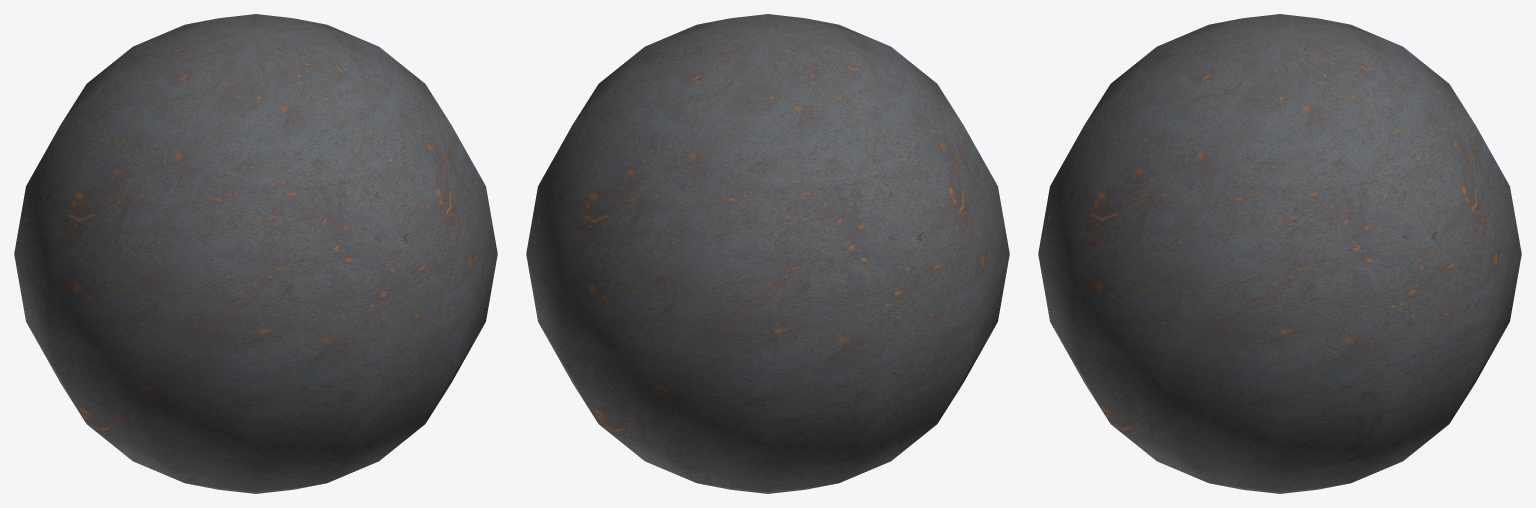
Rendered from obs_ball.fbx.
3 views of the same model, side by side, from view 1: azimuth 30°, elevation 25°; view 2: azimuth 150°, elevation 25°; view 3: azimuth 270°, elevation 25° (orthographic).
Parts seen in each view (by area): view 1: obst_Ball; view 2: obst_Ball; view 3: obst_Ball.
Boxes of the visible parts, x1=… form: obst_Ball: x1=14, y1=14, x2=497, y2=493; obst_Ball: x1=526, y1=14, x2=1009, y2=493; obst_Ball: x1=1038, y1=14, x2=1521, y2=493.
Size of the model in its own units: 89.65 by 89.65 by 89.65.
